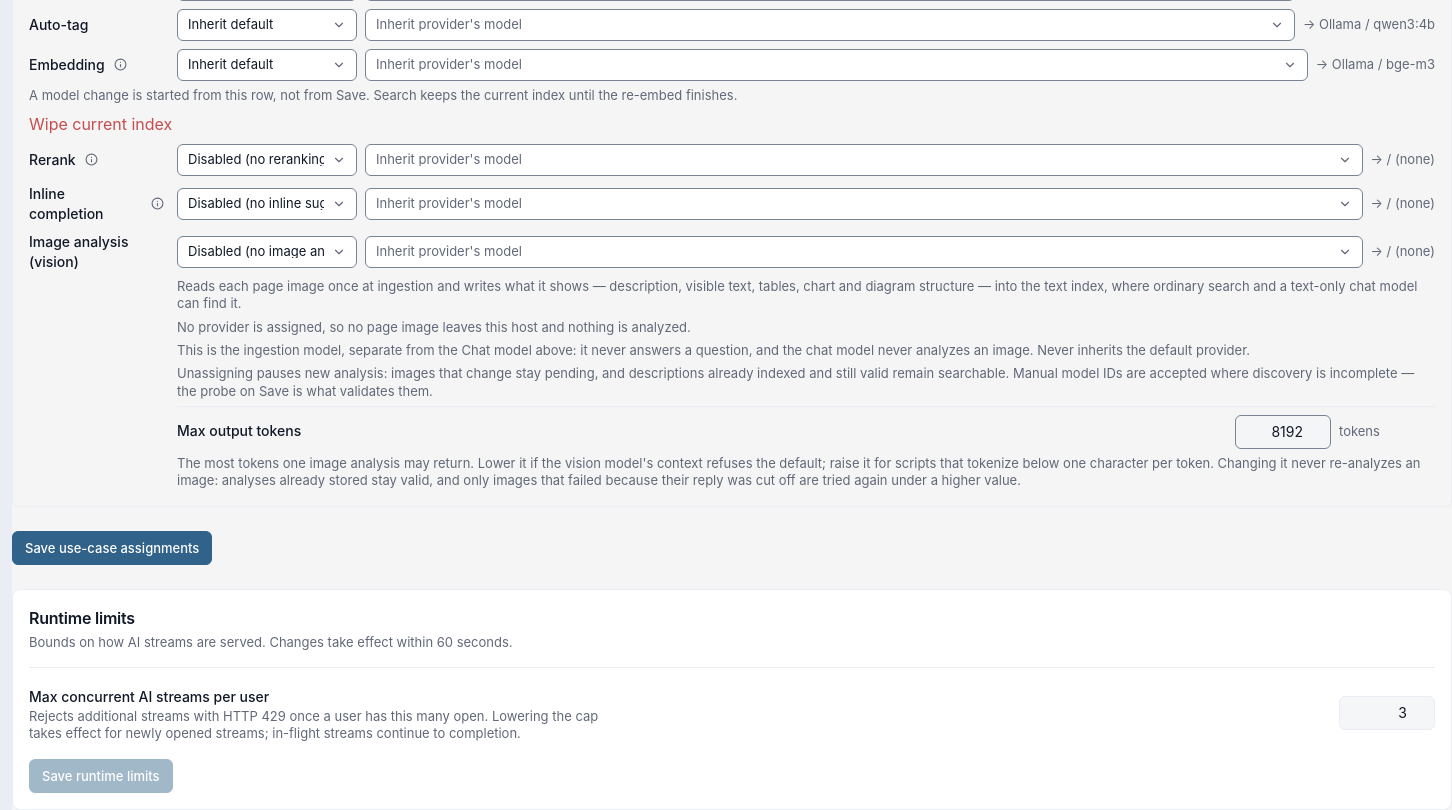
it: LlmTab › re-hydrates the concurrent-streams cap from the refetched settings after Save (#949)
This screenshot has width=1452, height=810.
(page scrolled)
Replace the text in the number field with test id "llm-max-concurrent-streams-per-user" with "8" at (1387,713), box [1339, 696, 1435, 730]
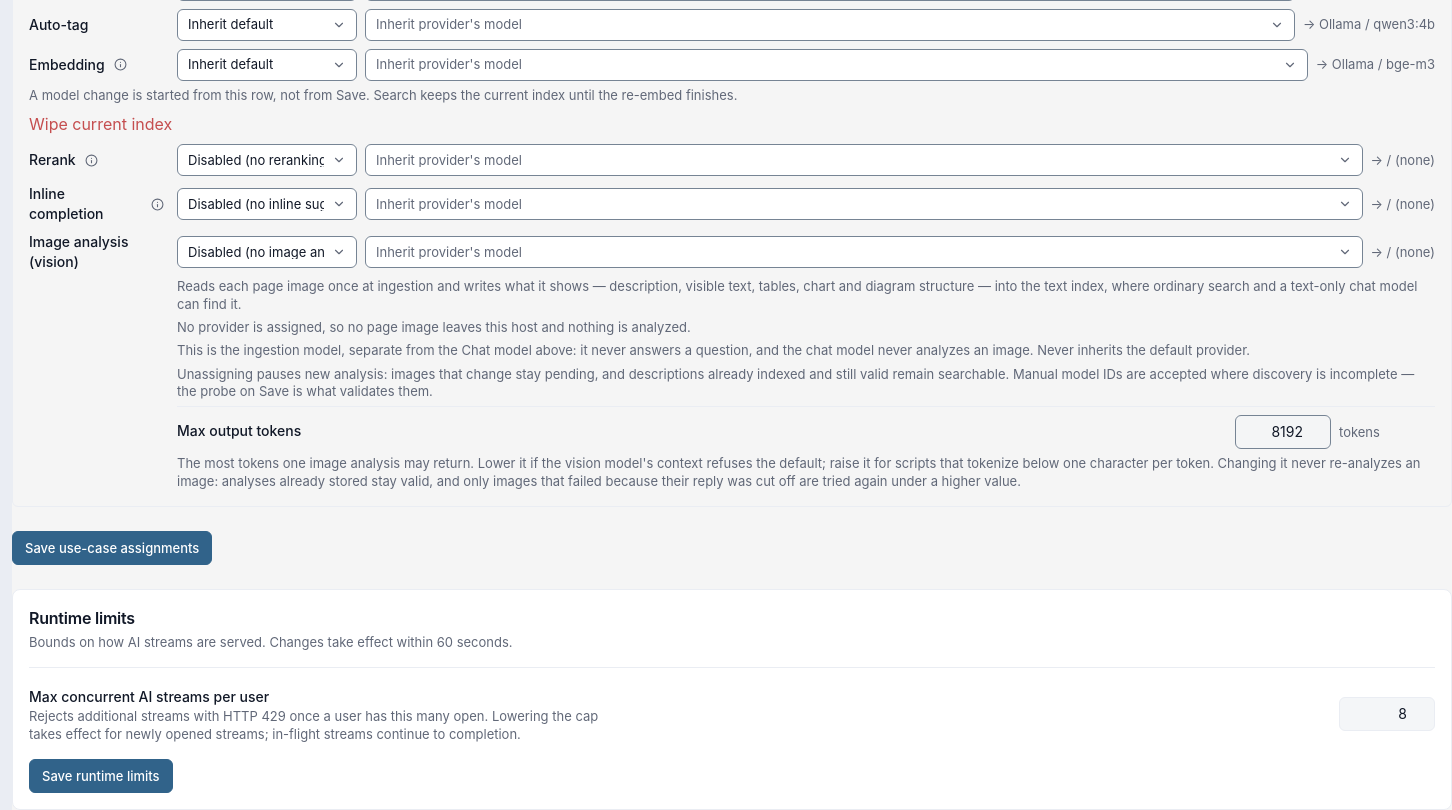
Click the button with test id "llm-runtime-limits-save" at (101,776), box [29, 759, 173, 793]
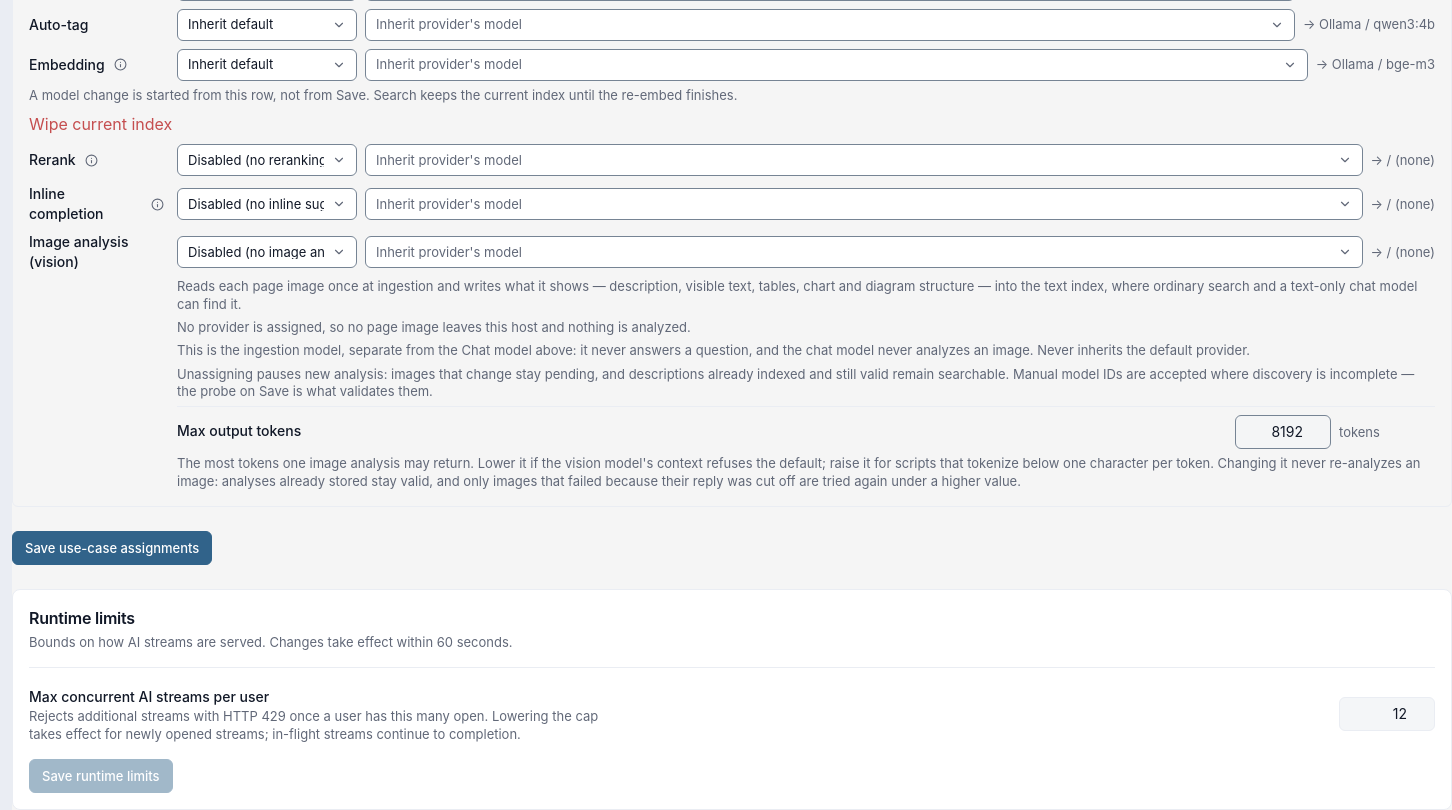
Now the number field with test id "llm-max-concurrent-streams-per-user" holds "12", box [1339, 697, 1435, 731]
